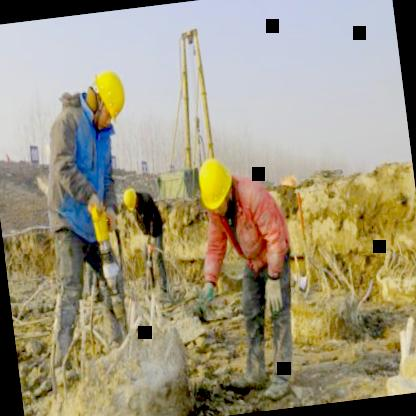helmet: (192, 148, 240, 226), (83, 60, 134, 129), (120, 181, 143, 214)
